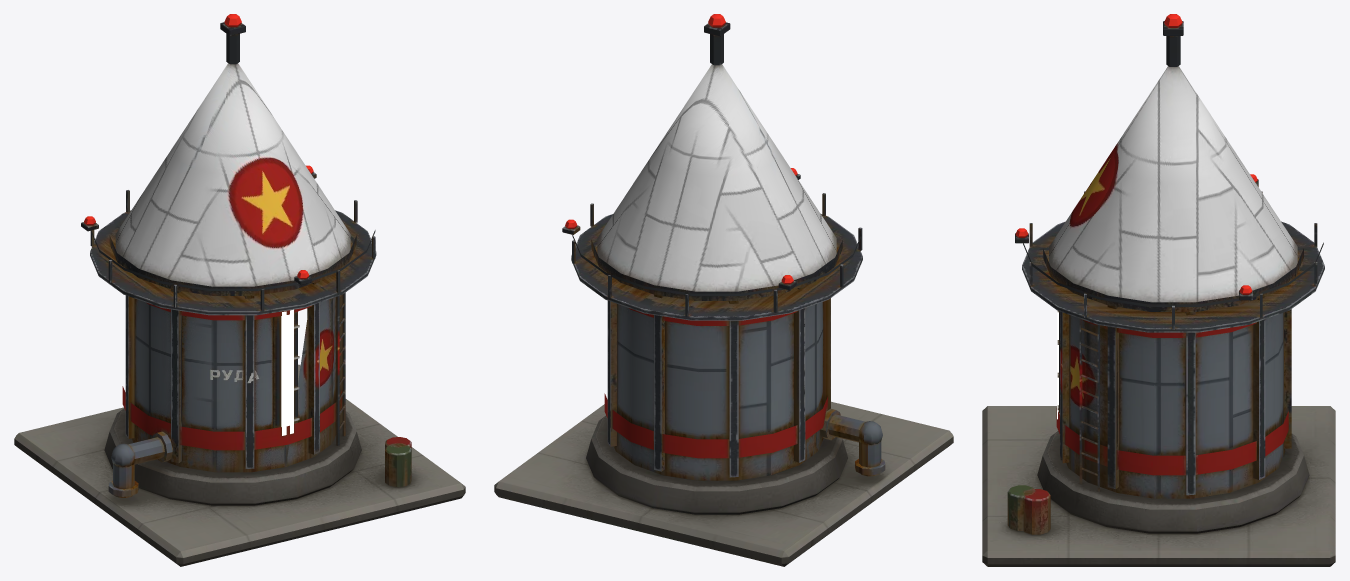
The model's file is silo.soviet.glb.
3 renders of one model, left to right at view 1: azimuth 30°, elevation 25°; view 2: azimuth 150°, elevation 25°; view 3: azimuth 270°, elevation 25°, orthographic. The views are drawn at different scales.
Parts seen in each view (by area): view 1: root_mesh, gauge_mesh; view 2: root_mesh; view 3: root_mesh.
Boxes of the visible parts, bbox=[...] form: root_mesh: bbox=[14, 14, 465, 566]; gauge_mesh: bbox=[281, 309, 293, 435]; root_mesh: bbox=[494, 14, 953, 566]; root_mesh: bbox=[982, 14, 1335, 566].
Size of the model in its own units: 0.98 by 1.47 by 0.98.
2 materials, 1 textured.
